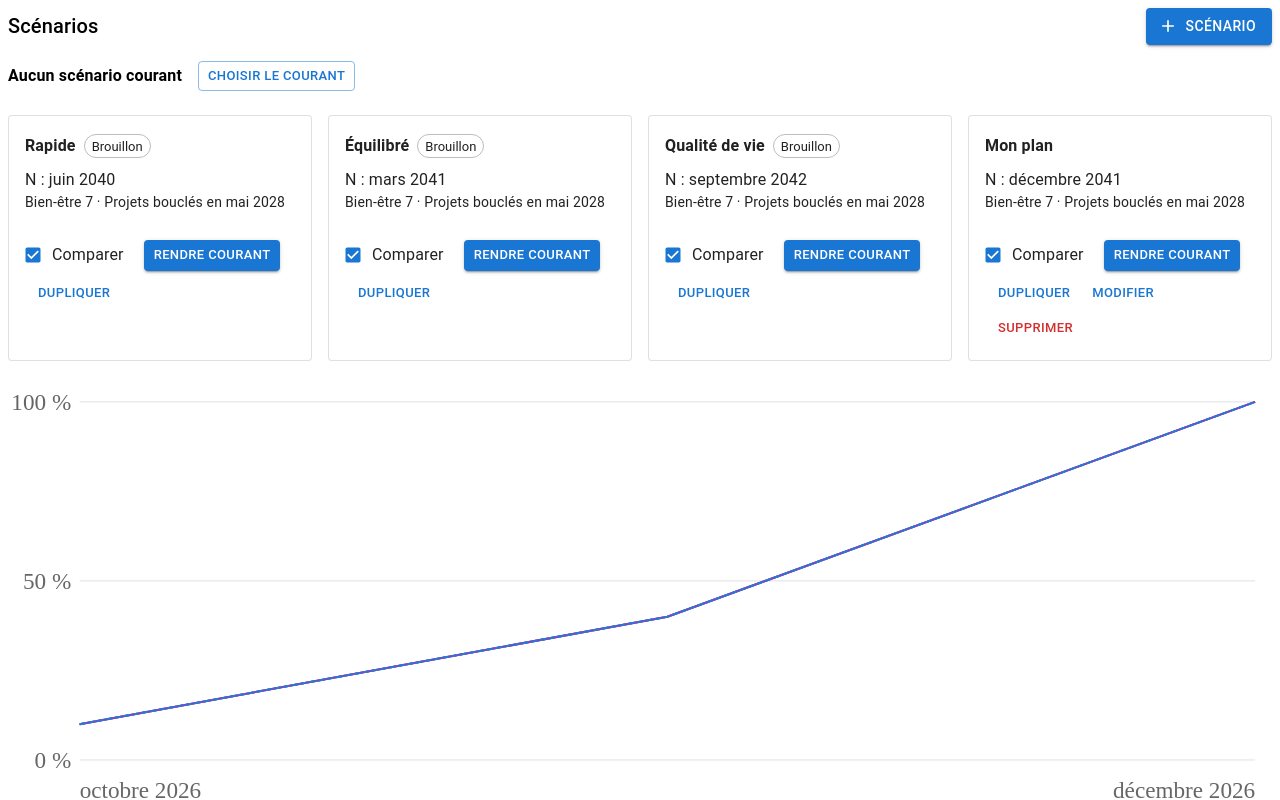
Test: ScenariosPanel › reorders, removes and adds back the projects of a scenario, and sends the order kept
Step 1. Click the button "Modifier" → (1123, 294), box [1087,278,1159,309]
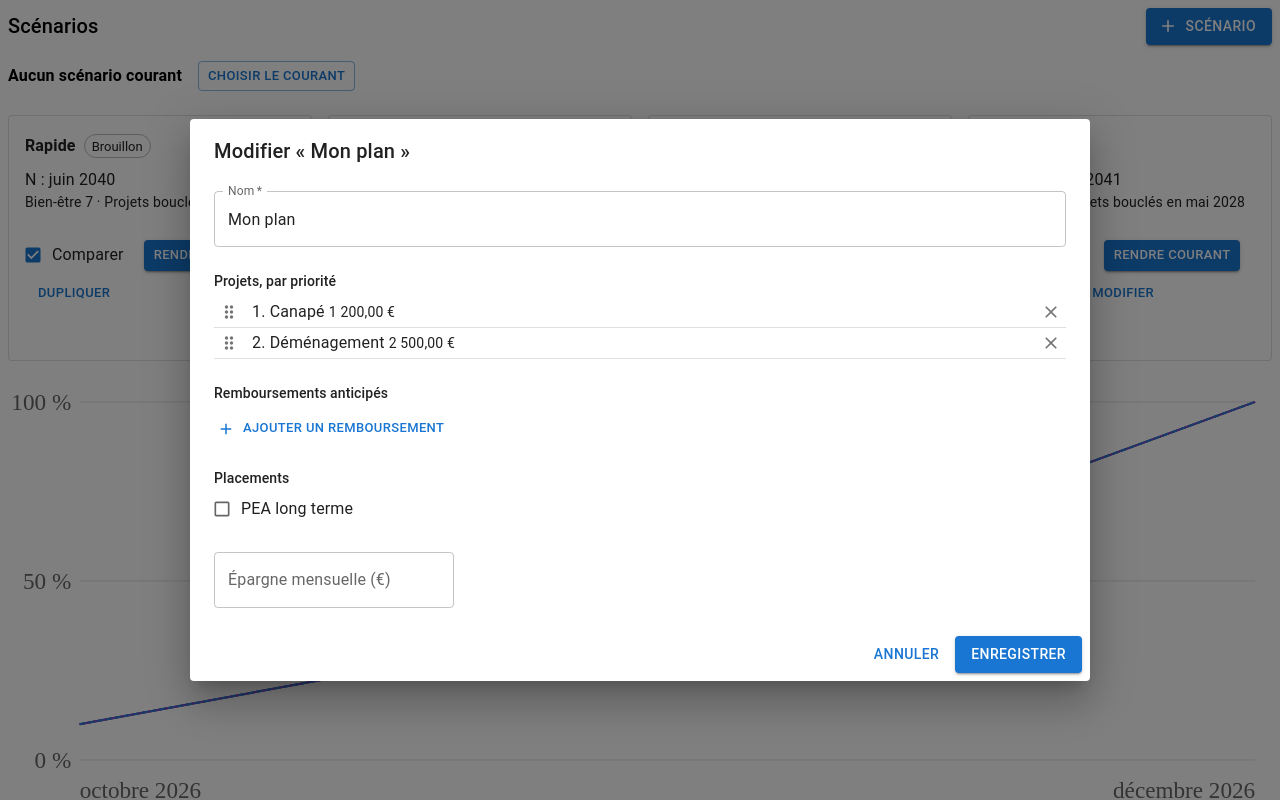
Step 2. Click the button named "Retirer Déménagement" → (1051, 343), box [1036,328,1066,358]
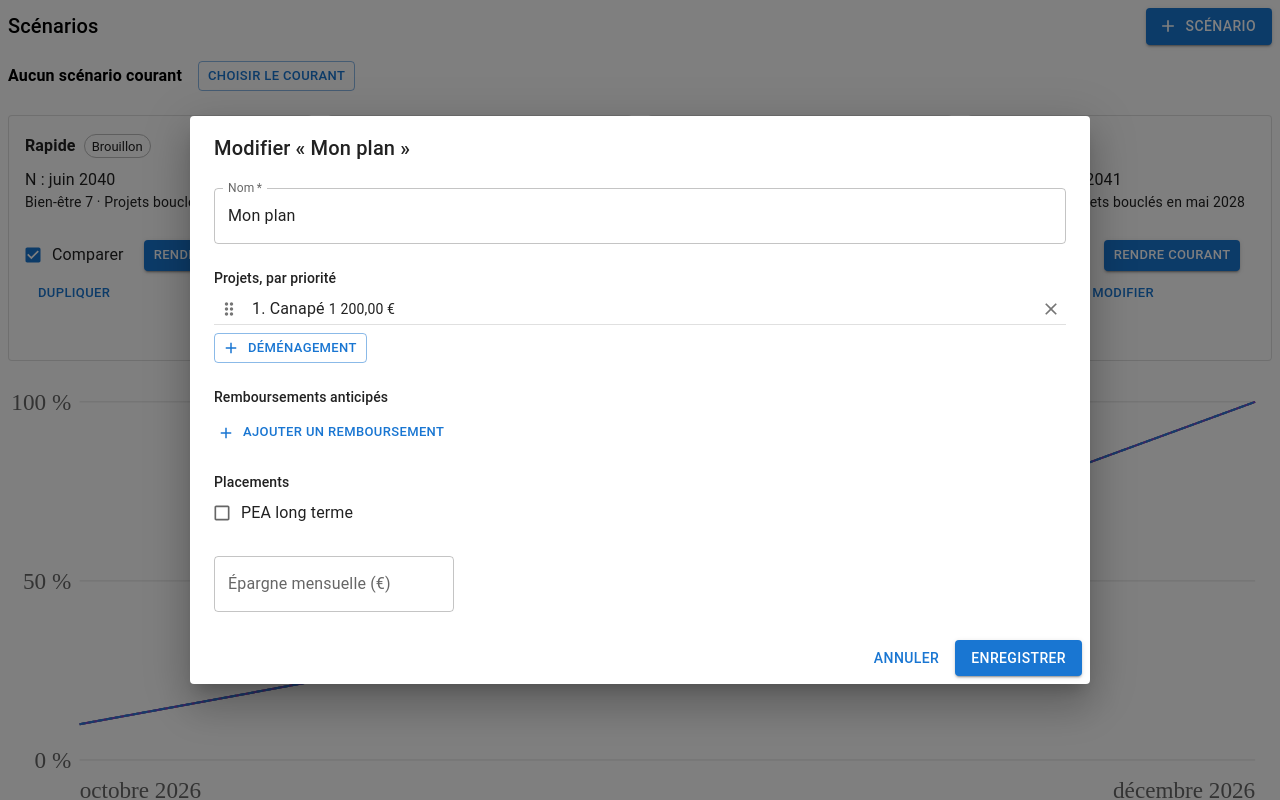
Step 3. Click the button "Déménagement" → (290, 348), box [214,332,367,363]
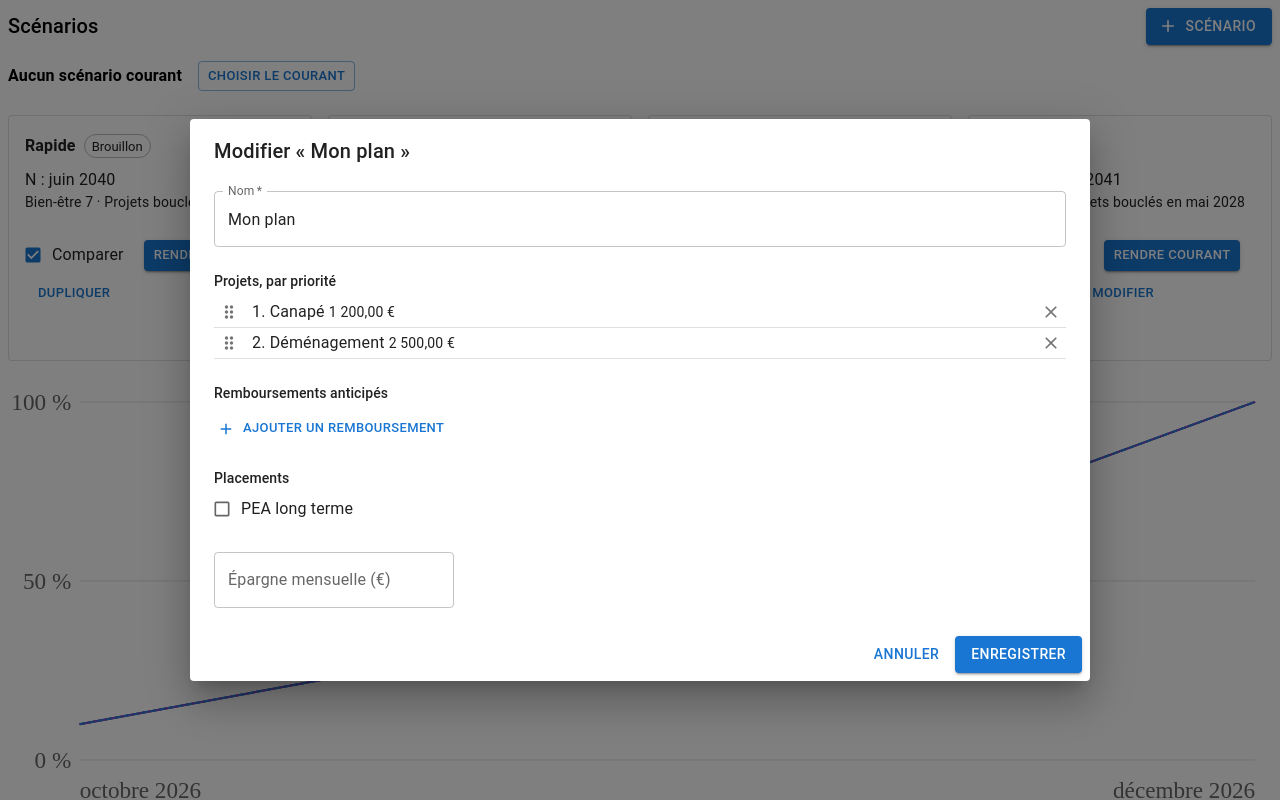
Step 4. Click the button "Enregistrer" → (1019, 654), box [955,636,1082,673]
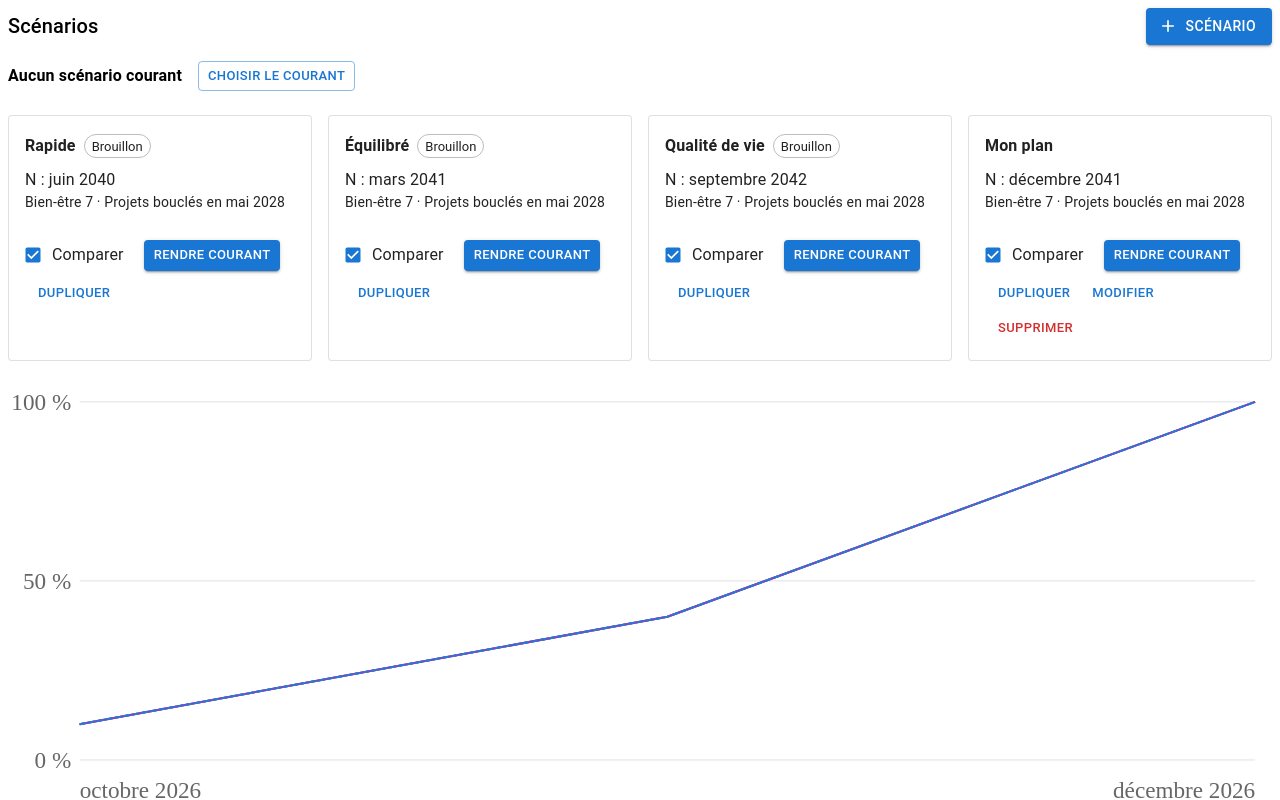
Check: the form is gone
